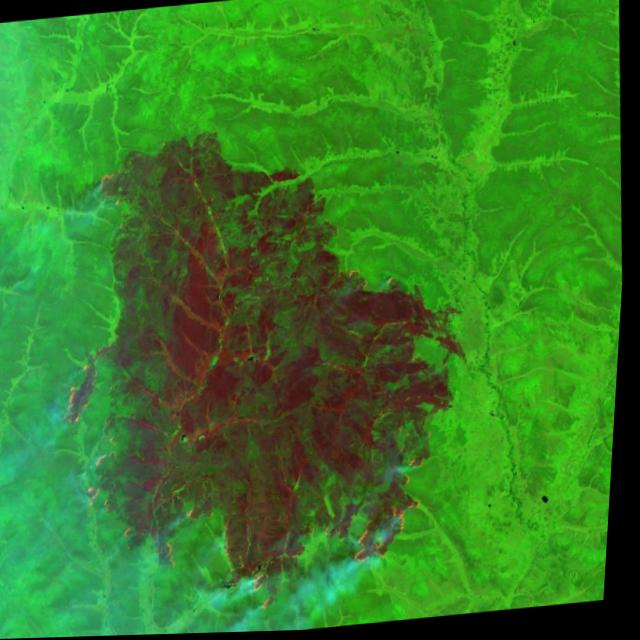fire: (49, 325, 456, 637), (88, 154, 140, 214), (341, 260, 386, 309)
